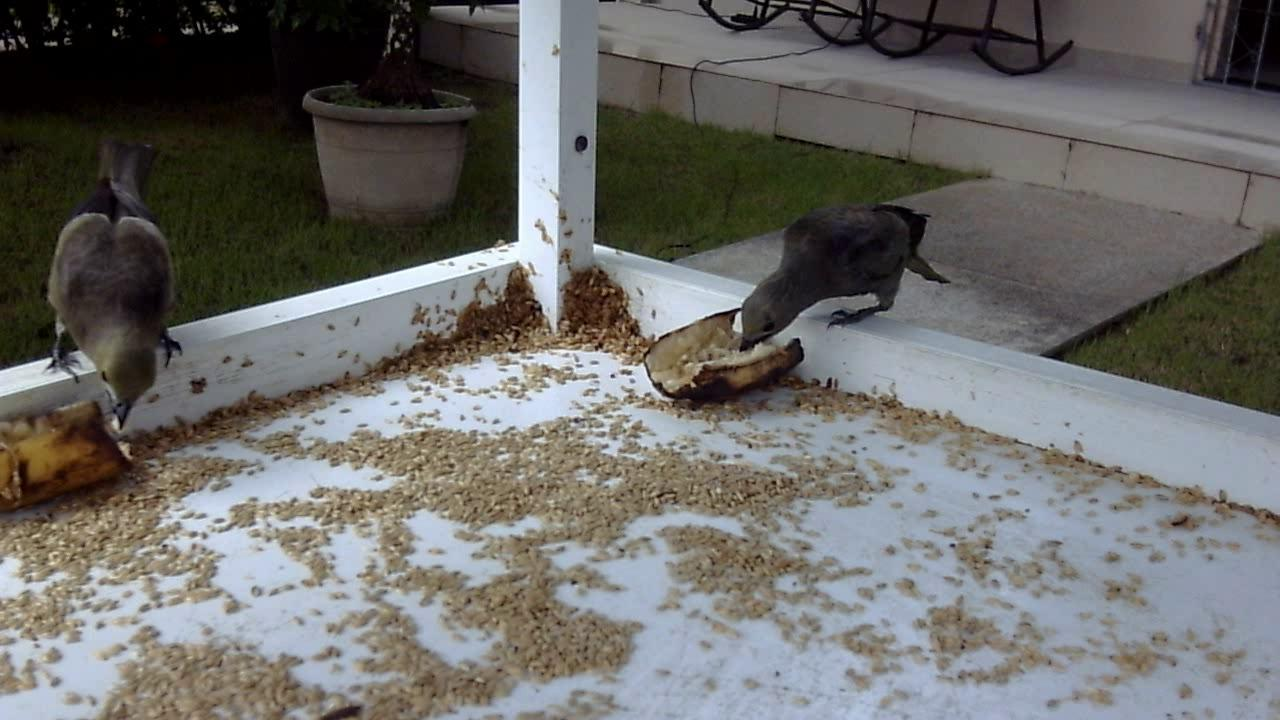sanhaco_do_coqueiro: (36, 138, 193, 437), (725, 189, 963, 352)
